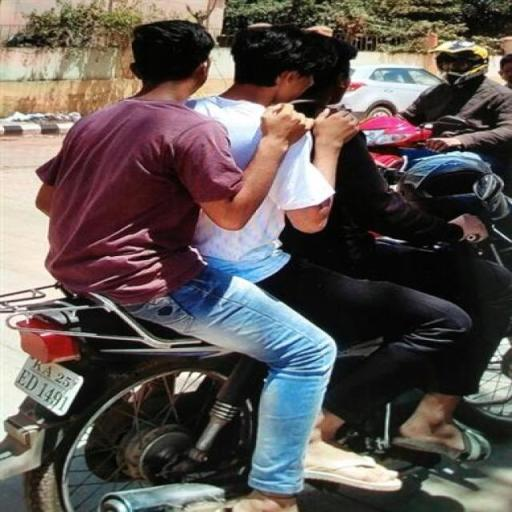tripple riding: (30, 16, 426, 290)
